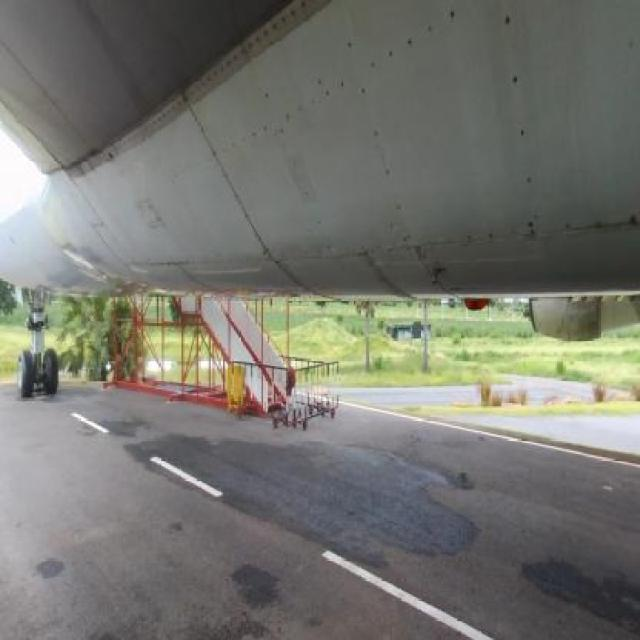Missing-Rivet: (350, 86, 418, 242), (500, 11, 543, 235), (458, 210, 640, 258), (362, 19, 489, 64), (292, 71, 370, 124), (220, 118, 292, 152)
